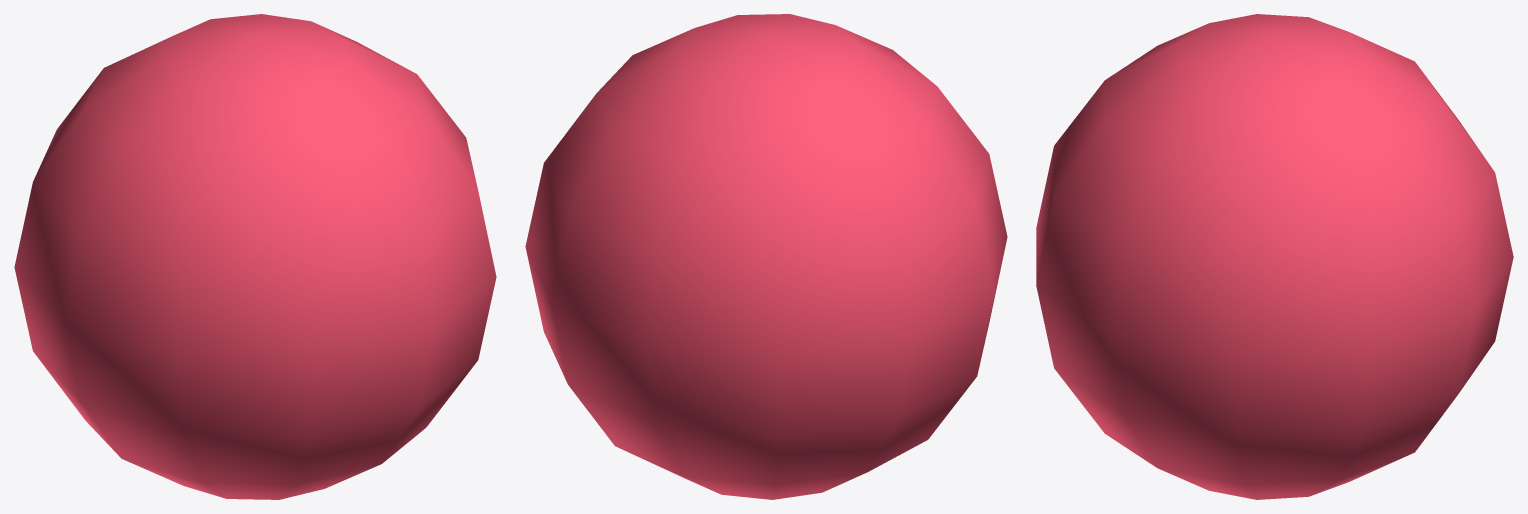
Rendered from 19_IceCream_2.fbx.
3 views of the same model, side by side, from view 1: azimuth 30°, elevation 25°; view 2: azimuth 150°, elevation 25°; view 3: azimuth 270°, elevation 25° (orthographic).
Parts seen in each view (by area): view 1: Sphere.001; view 2: Sphere.001; view 3: Sphere.001.
Boxes of the visible parts, left/top/right/bottom form: Sphere.001: left=14, top=14, right=496, bottom=499; Sphere.001: left=525, top=14, right=1007, bottom=499; Sphere.001: left=1036, top=14, right=1513, bottom=499.
Bounding box in the file's own units: 45.68 × 46.15 × 45.22.
